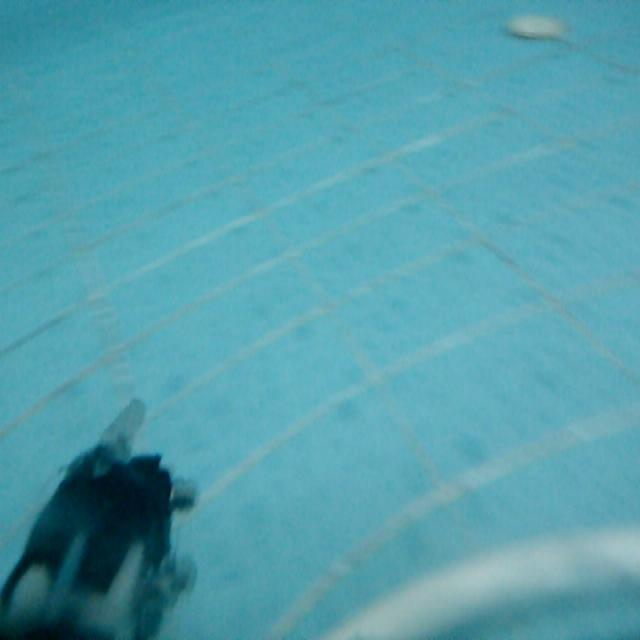Cube: (334, 538, 640, 634)
